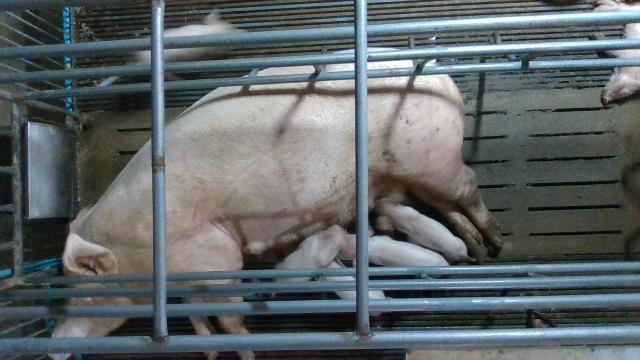piglet: (133, 7, 251, 80), (375, 197, 476, 261), (591, 0, 640, 103), (276, 225, 345, 285), (369, 235, 449, 278), (323, 262, 385, 316)
sow-sleep-lactate: (52, 45, 505, 360)
